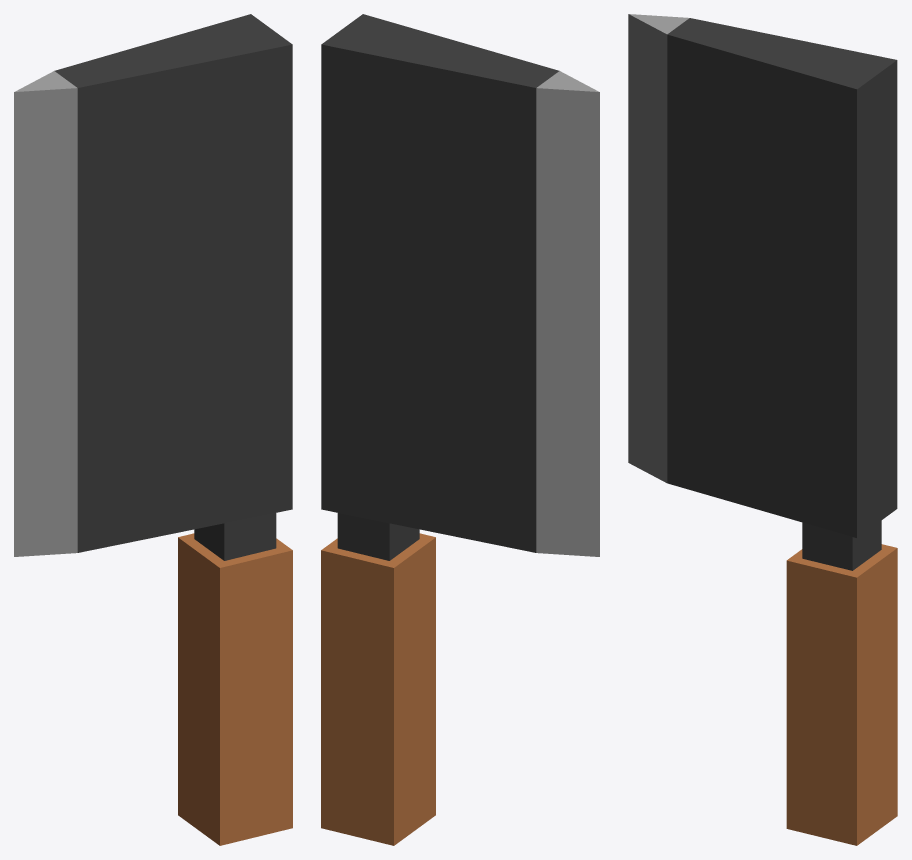
The model's file is coutelas2_PLY.fbx.
3 renders of one model, left to right at view 1: azimuth 30°, elevation 25°; view 2: azimuth 150°, elevation 25°; view 3: azimuth 330°, elevation 25°, orthographic. The views are drawn at different scales.
Visible parts, largest first — view 1: coutelas2_PLY; view 2: coutelas2_PLY; view 3: coutelas2_PLY.
Part boxes in pixels (left/top/right/bottom): coutelas2_PLY: left=14, top=14, right=292, bottom=845; coutelas2_PLY: left=321, top=14, right=599, bottom=845; coutelas2_PLY: left=628, top=14, right=897, bottom=845.
Size of the model in its own units: 0.5928 by 1.72 by 0.1677.
